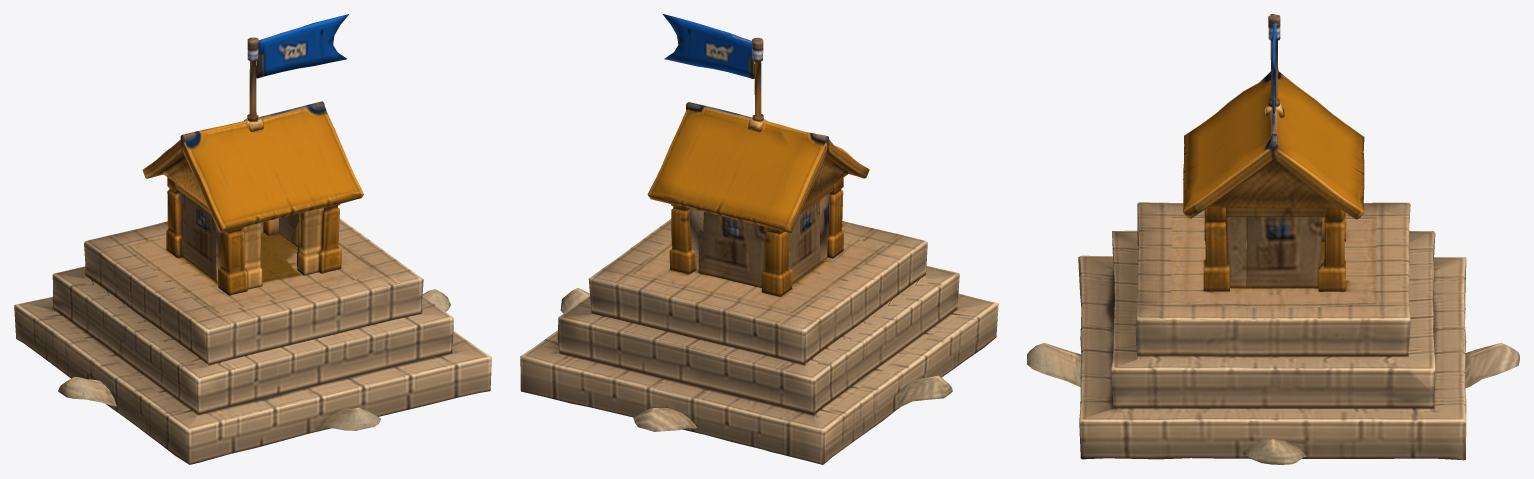
File: nivel1.glb
The picture shows the model from 3 angles, left to right: view 1: azimuth 30°, elevation 25°; view 2: azimuth 150°, elevation 25°; view 3: azimuth 270°, elevation 25°; orthographic projection. The views are drawn at different scales.
Size of the model in its own units: 1 by 0.8186 by 1.
Materials: 1 (1 with a texture image).
